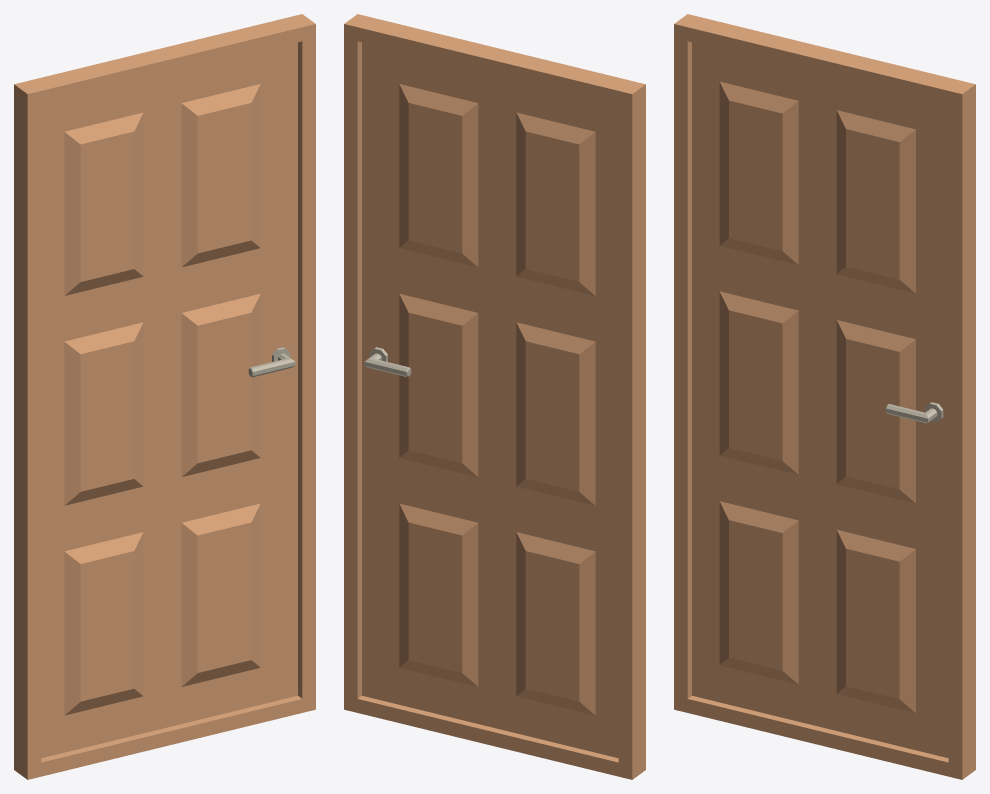
Rendered from Mesh_Door_A13.fbx.
3 views of the same model, side by side, from view 1: azimuth 30°, elevation 25°; view 2: azimuth 150°, elevation 25°; view 3: azimuth 330°, elevation 25° (orthographic).
Visible parts, largest first — view 1: Mesh_Door_A13; view 2: Mesh_Door_A13; view 3: Mesh_Door_A13.
Part boxes in pixels (x1,y1,x2,y2): Mesh_Door_A13: [14, 14, 315, 779]; Mesh_Door_A13: [344, 14, 645, 779]; Mesh_Door_A13: [674, 14, 975, 779].
Size of the model in its own units: 0.9 by 2.05 by 0.1482.
